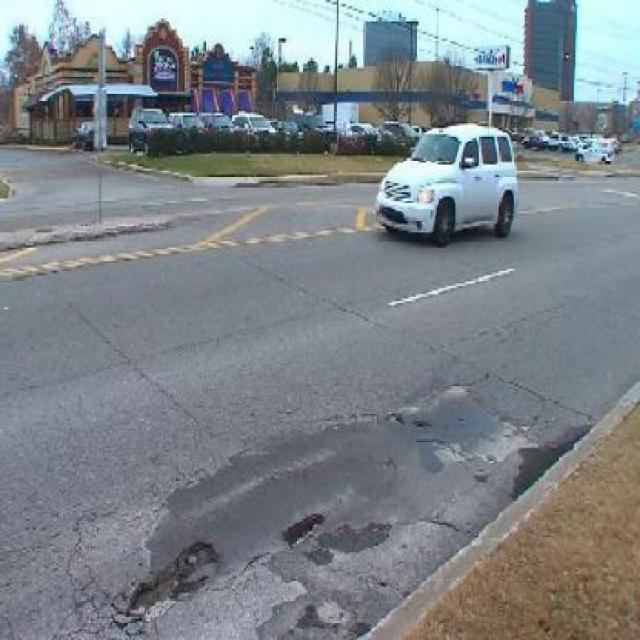pothole: (125, 535, 220, 621), (283, 506, 326, 545), (387, 405, 406, 429), (413, 413, 432, 430)
